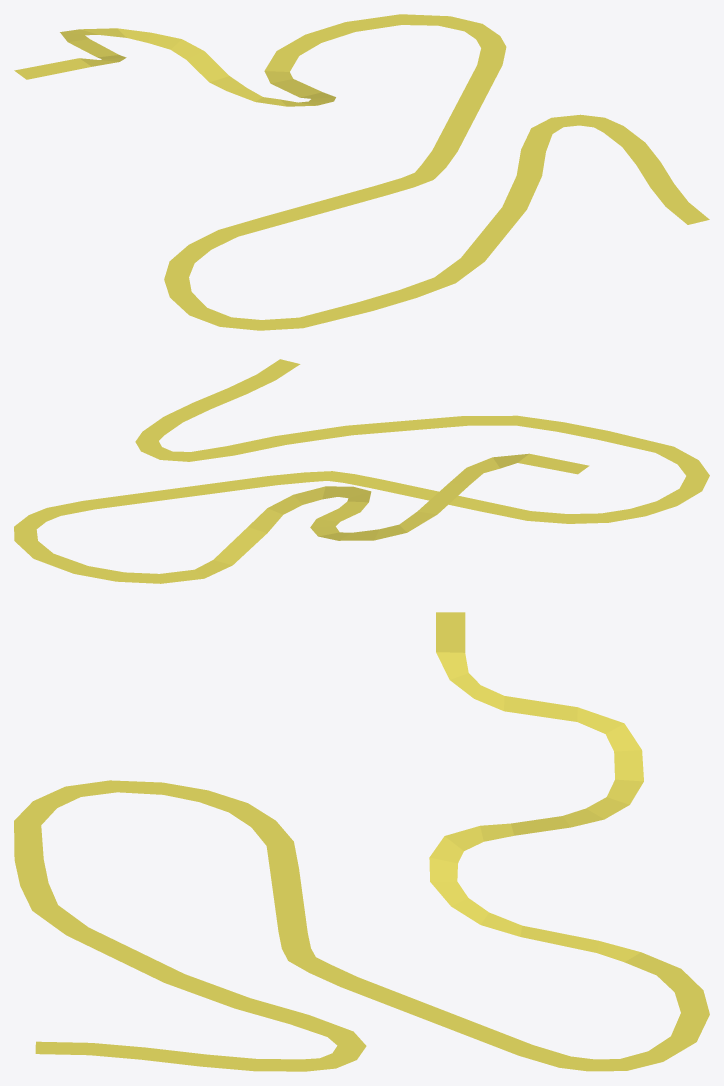
The model's file is road.glb.
3 views of the same model, one above another, from view 1: azimuth 30°, elevation 25°; view 2: azimuth 150°, elevation 25°; view 3: azimuth 270°, elevation 25° (orthographic). The views are drawn at different scales.
Parts seen in each view (by area): view 1: Straße; view 2: Straße; view 3: Straße.
Boxes of the visible parts, bbox=[...] form: Straße: bbox=[14, 14, 709, 330]; Straße: bbox=[14, 359, 709, 583]; Straße: bbox=[14, 612, 709, 1071].
Bounding box in the file's own units: 489 × 118 × 476.
